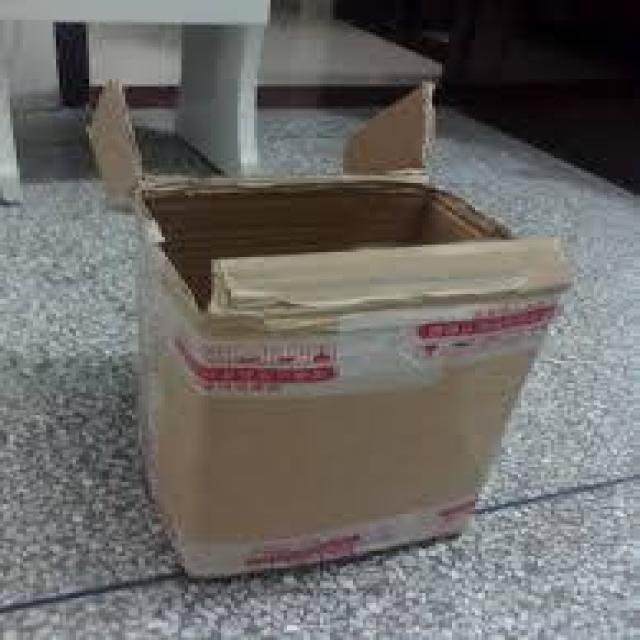-Recyclables - paper box-: (131, 175, 570, 574)
